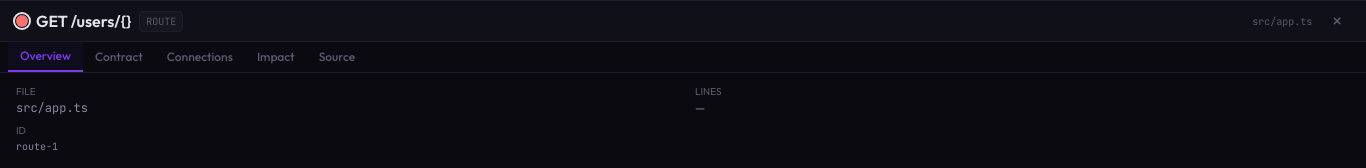
NodeDetail — contract tab › shows an empty state when the route has no recoverable API contract
Click the button "contract": (119, 57) [83,42,155,72]
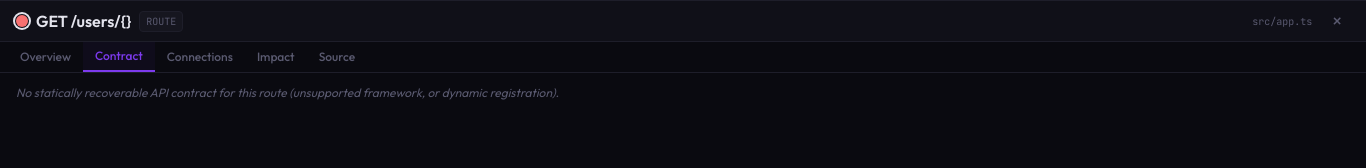
Expected: the text "No statically recoverable API contract" is shown, [16,85,559,100]
